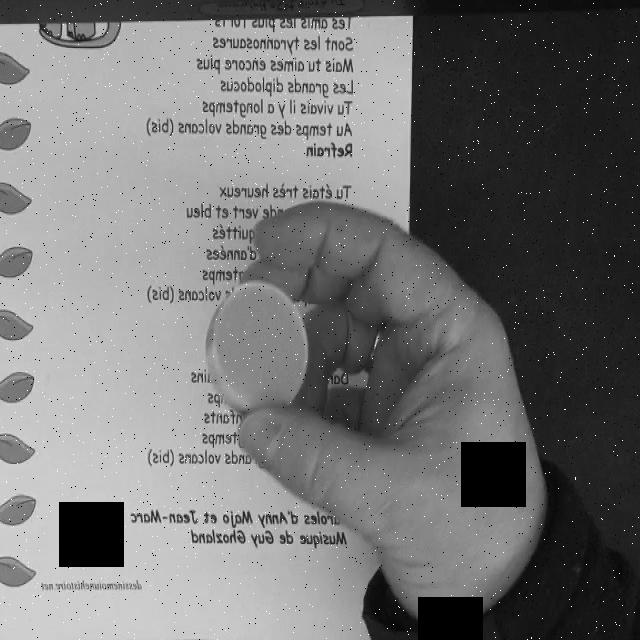round: (206, 279, 310, 422)
